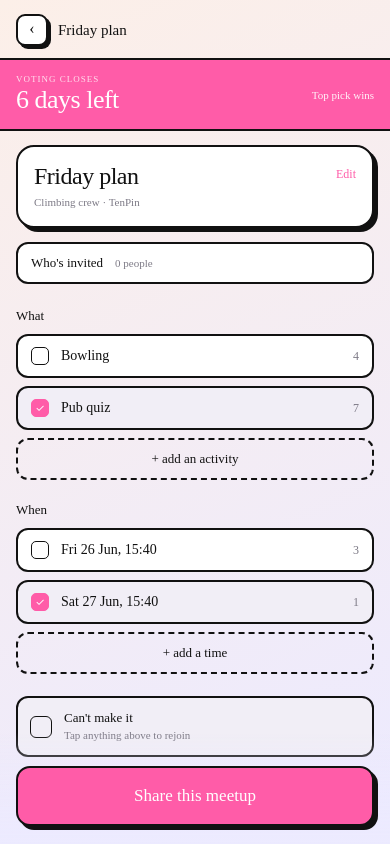
Test case: EventDetail - edit sheet (per-field compare-and-set) › while collecting the activity is vote-decided, so no editable activity field is offered
The width and height of the screenshot is (390, 844).
Click the text "Edit" at (346,174), box [336,167,356,182]
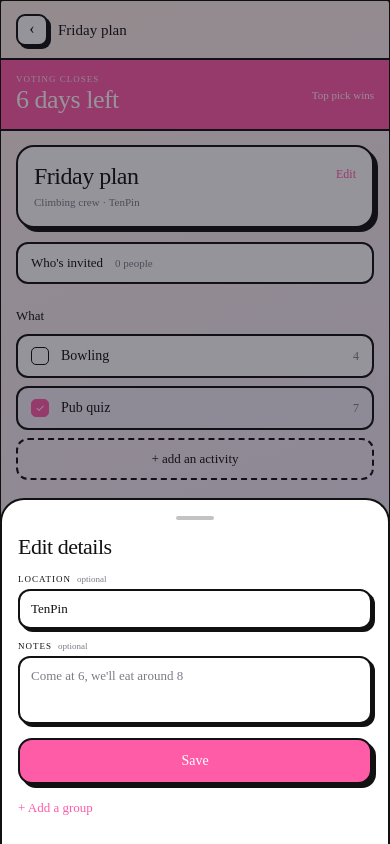
expect the field showing "TenPin" is shown: met, box [31,591,359,627]
